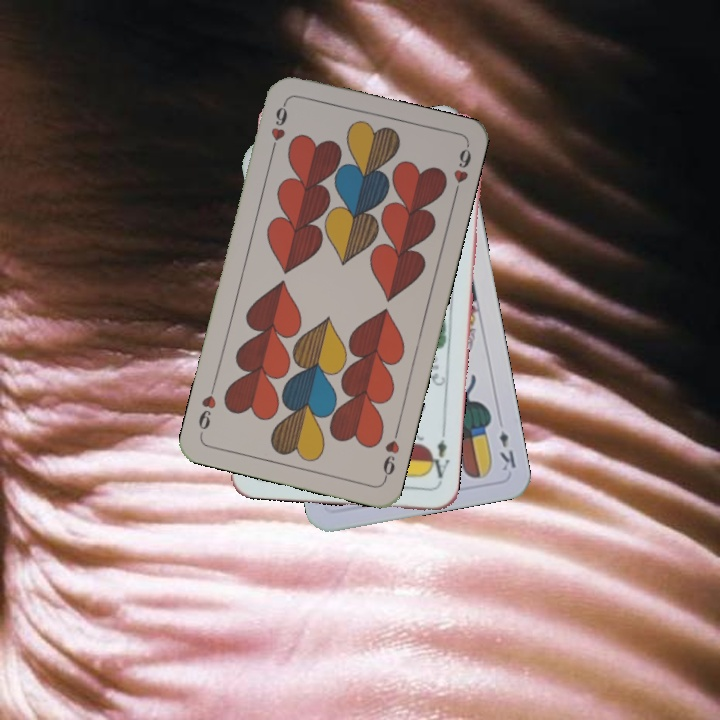EA: (424, 427, 452, 486)
EK: (495, 427, 519, 474)
H9: (266, 98, 290, 156), (379, 425, 402, 483)
